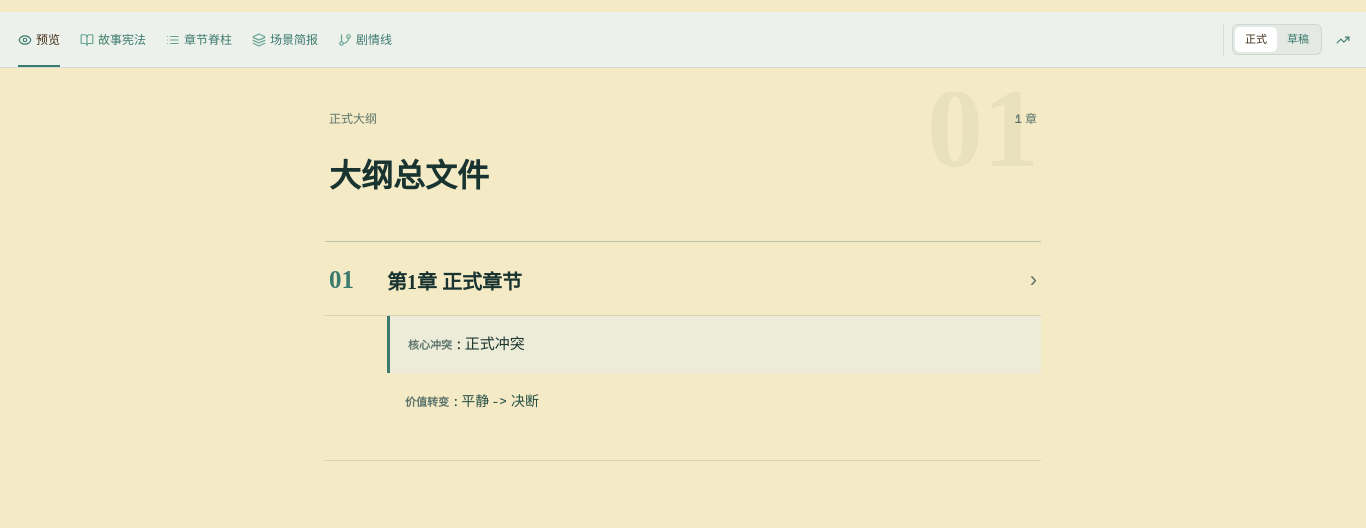
Test case: OutlineMasterEditor draft fallback › does not enter draft mode when the server reports an incomplete draft
Click the button "草稿".
click(1298, 40)  # box top-left (1277, 27), bottom-right (1319, 52)
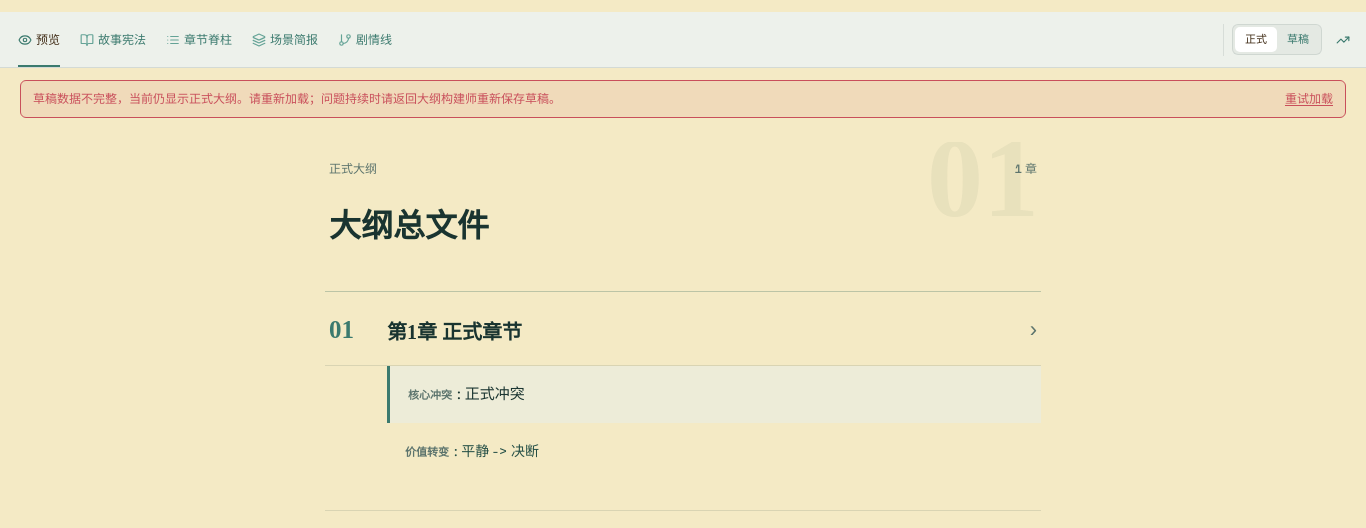
expect the text "正式大纲" is shown: met, box top-left (329, 160), bottom-right (377, 178)
expect the message shows "草稿数据不完整": met, box top-left (33, 91), bottom-right (561, 107)
